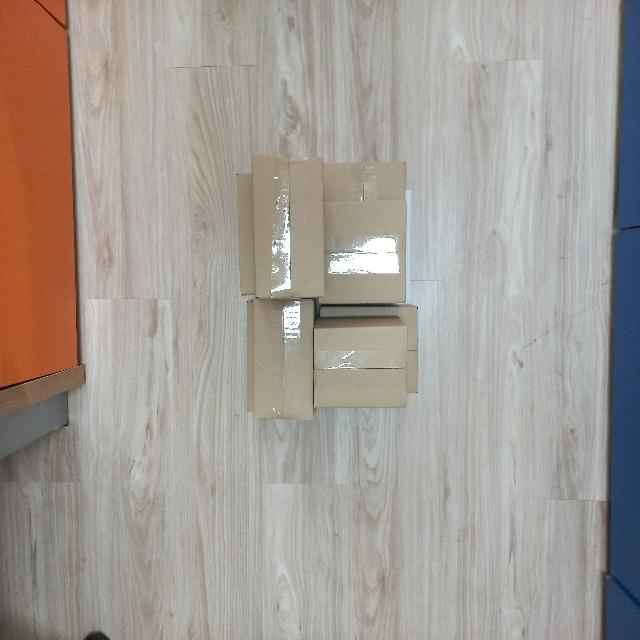box: (248, 152, 327, 302), (314, 198, 414, 306), (312, 316, 413, 412), (248, 300, 316, 424)
